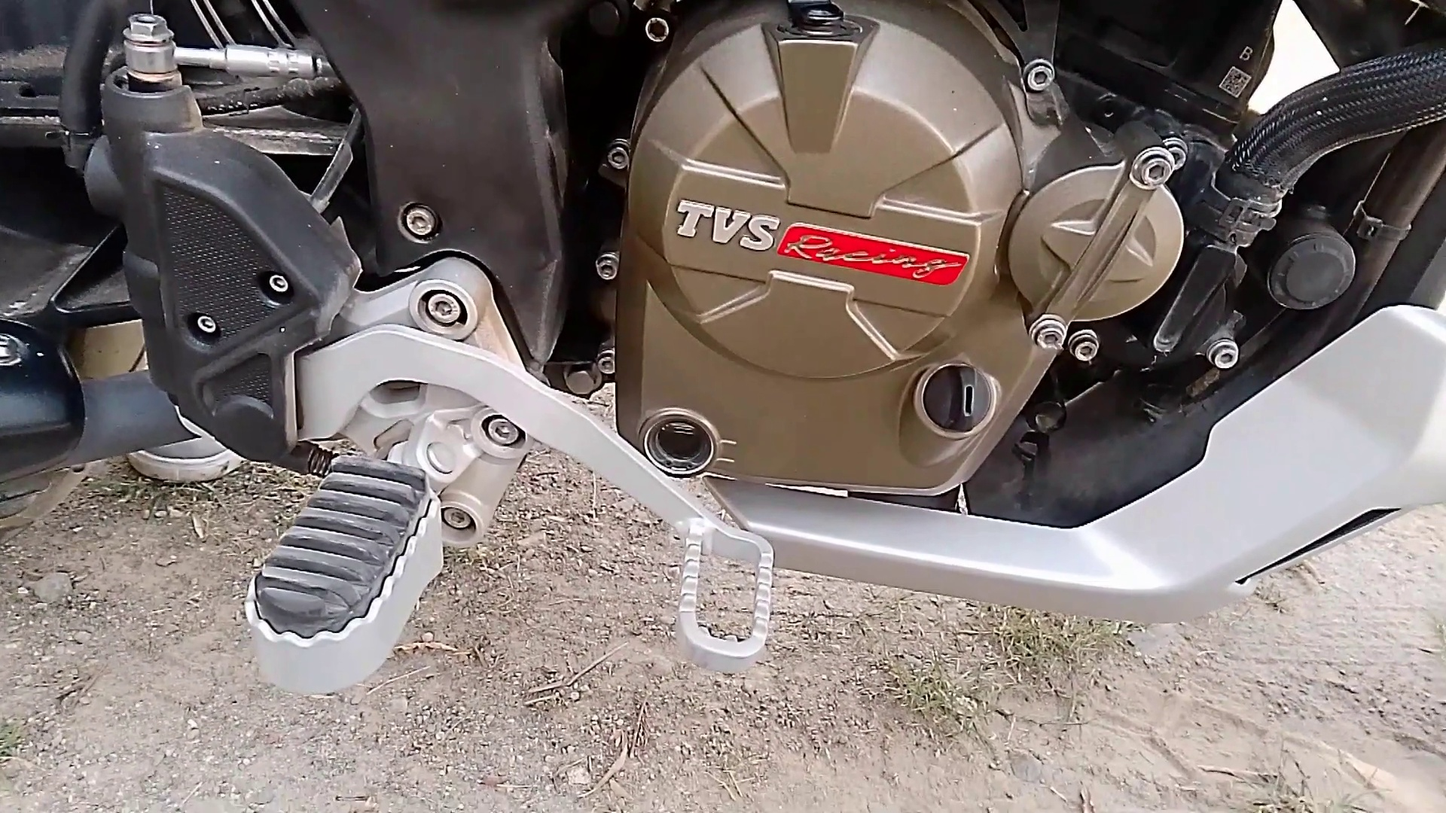bike-engine: (613, 2, 1193, 493)
bike-engine-level: (639, 408, 716, 482)
bike-oil-cap: (905, 356, 1010, 433)
